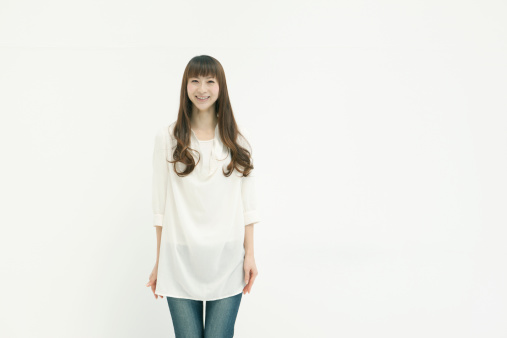em pe: (134, 47, 270, 338)
